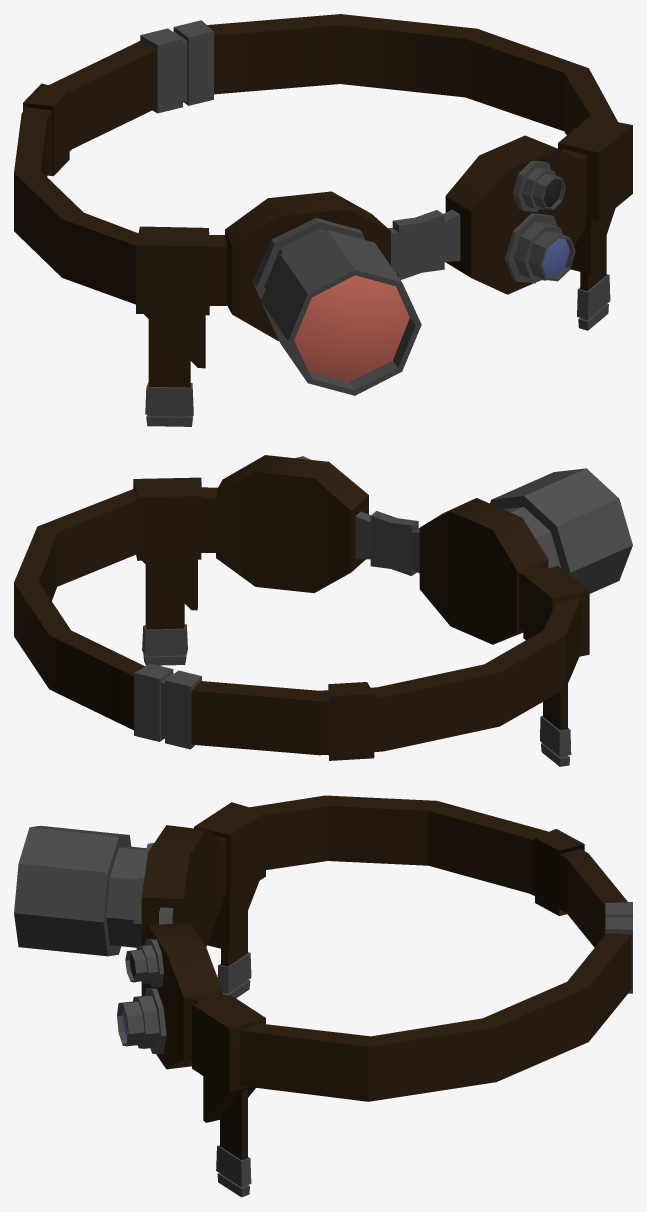
Rendered from SM_Goggles_01 (1).fbx.
3 renders of one model, top to bottom at view 1: azimuth 30°, elevation 25°; view 2: azimuth 150°, elevation 25°; view 3: azimuth 270°, elevation 25°, orthographic. The views are drawn at different scales.
Visible parts, largest first — view 1: pCube3, RedReticle, BlueReticle, BlackReticle; view 2: pCube3, RedReticle; view 3: pCube3, RedReticle, BlueReticle, BlackReticle.
Boxes of the visible parts, x1,y1,x2,y2 form: pCube3: [14, 14, 632, 426]; RedReticle: [252, 218, 421, 395]; BlueReticle: [505, 213, 575, 283]; BlackReticle: [512, 160, 565, 211]; pCube3: [14, 455, 589, 766]; RedReticle: [490, 468, 632, 593]; pCube3: [141, 795, 632, 1197]; RedReticle: [14, 825, 153, 956]; BlueReticle: [117, 988, 166, 1054]; BlackReticle: [125, 939, 163, 987].
Bounding box in the file's own units: 33.73 × 12.71 × 35.09.
